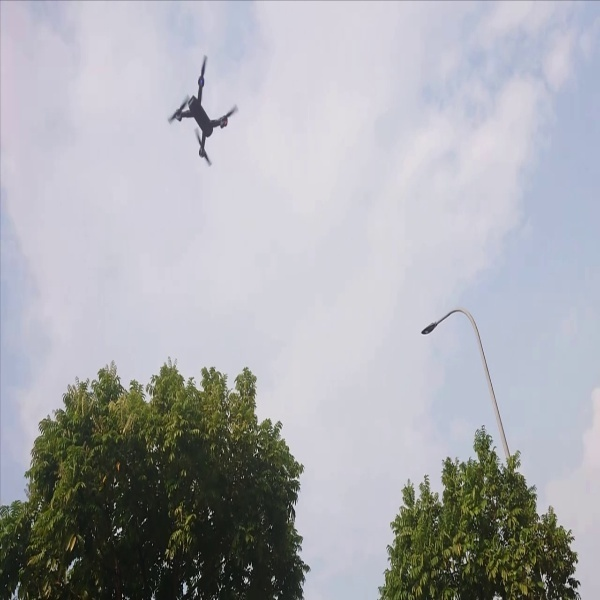drone: (159, 51, 244, 169)
